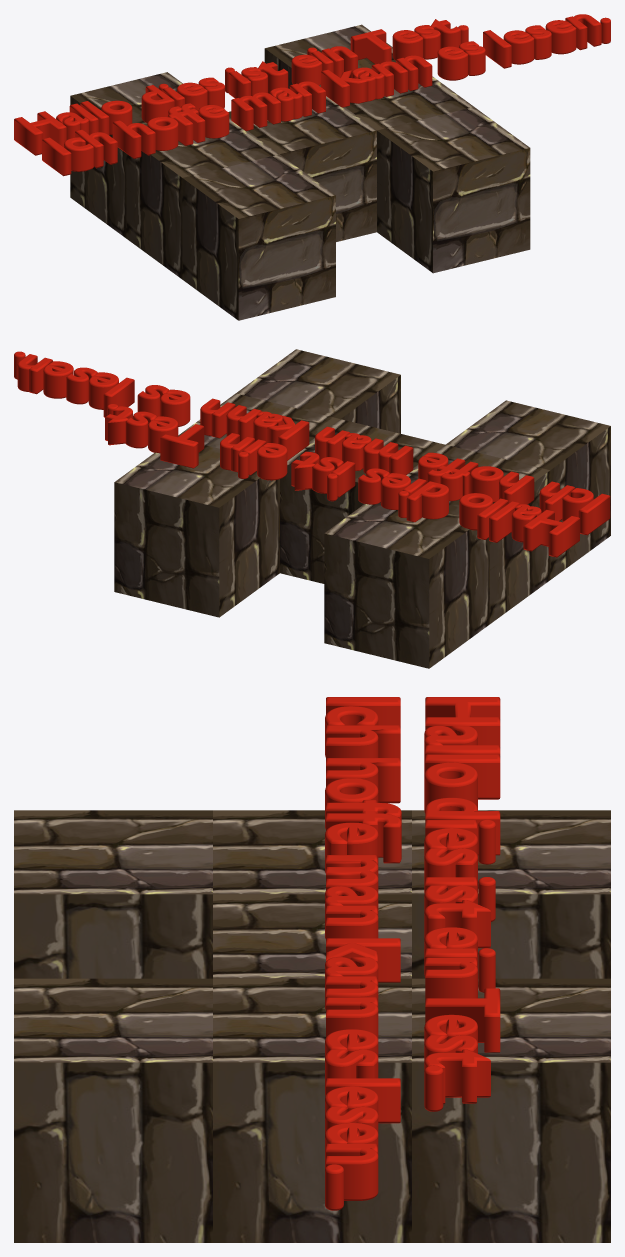
The picture shows the model from 3 angles, top to bottom: view 1: azimuth 30°, elevation 25°; view 2: azimuth 150°, elevation 25°; view 3: azimuth 270°, elevation 25°; orthographic projection. The views are drawn at different scales.
Visible parts, largest first — view 1: Cube, Hallo; view 2: Cube, Hallo; view 3: Cube, Hallo.
Boxes of the visible parts, x1,y1,x2,y2 form: Cube: (70, 24, 530, 320); Hallo: (14, 14, 610, 176); Cube: (114, 349, 610, 668); Hallo: (14, 351, 610, 557); Cube: (14, 810, 610, 1242); Hallo: (325, 697, 500, 1210).
Size of the model in its own units: 11.3 by 6 by 2.43.
